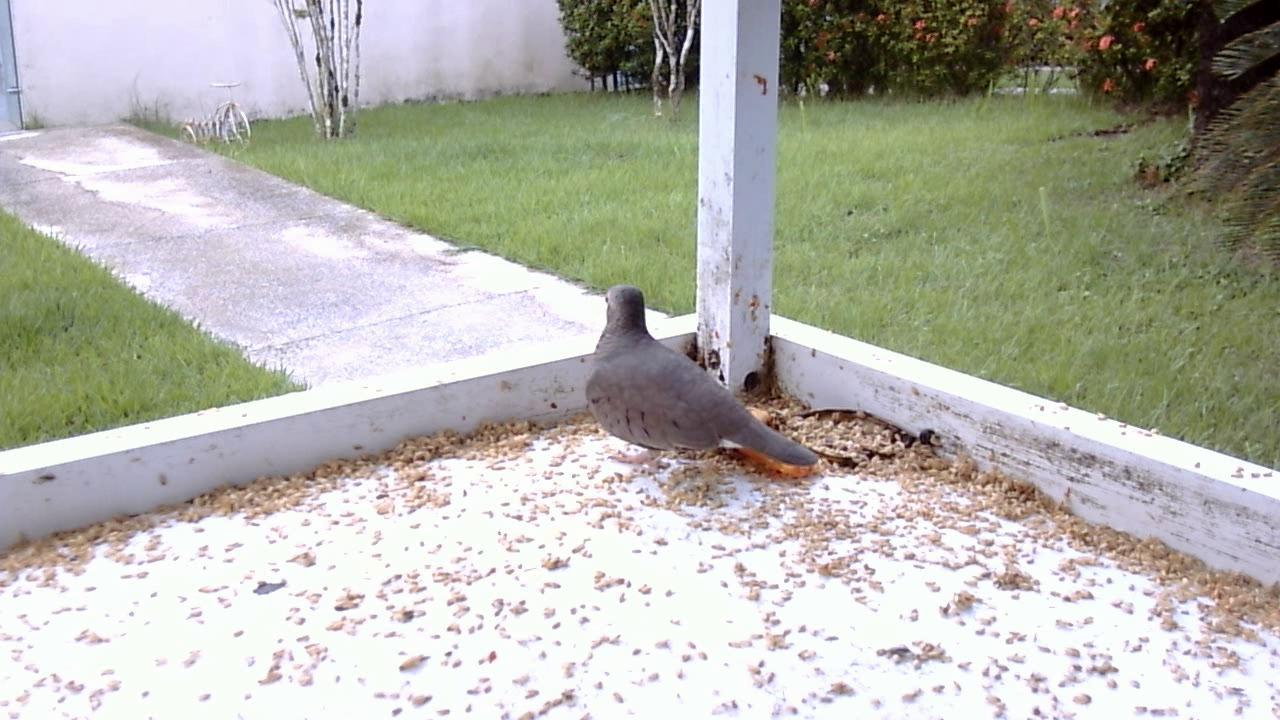rolinha: (576, 280, 827, 482)
